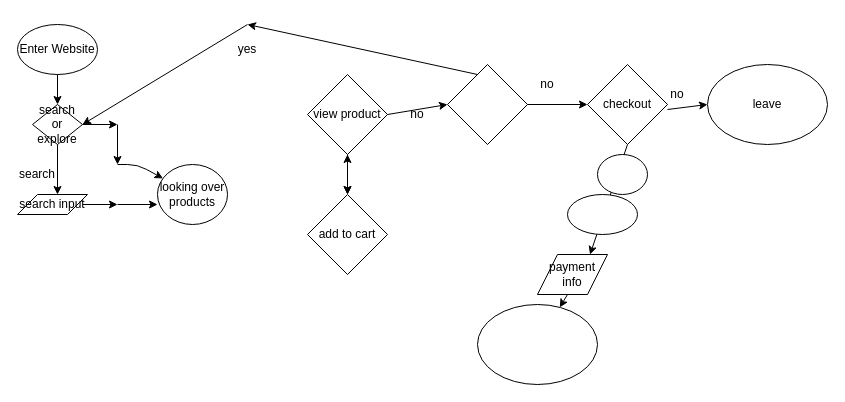
Some shapes in this 845 by 402 pixel diagram are drawn without their labels. Each missing label, with the centre of its shape:
"confirmation/leave" belongs at [537,344].
"continue shopping" belongs at [487,104].
"view cart" belongs at [622,174].
"view payment" belongs at [602,214].
